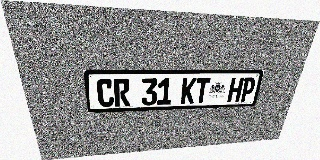1: (157, 78, 172, 105)
3: (142, 78, 157, 106)
C: (96, 79, 114, 107)
H: (227, 77, 244, 102)
K: (180, 78, 197, 104)
P: (239, 77, 257, 102)
R: (113, 78, 130, 107)
T: (194, 78, 211, 103)
